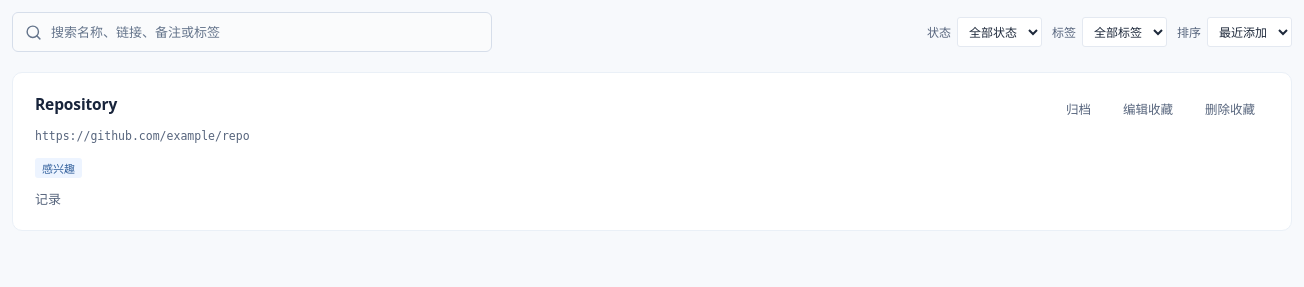
Test: archives a bookmark while preserving its manual status and reports failures
What coordinates should you click on to do the following:
click the button "归档"
I would click on:
 (1078, 110)
Its box is [1052,93,1105,127].
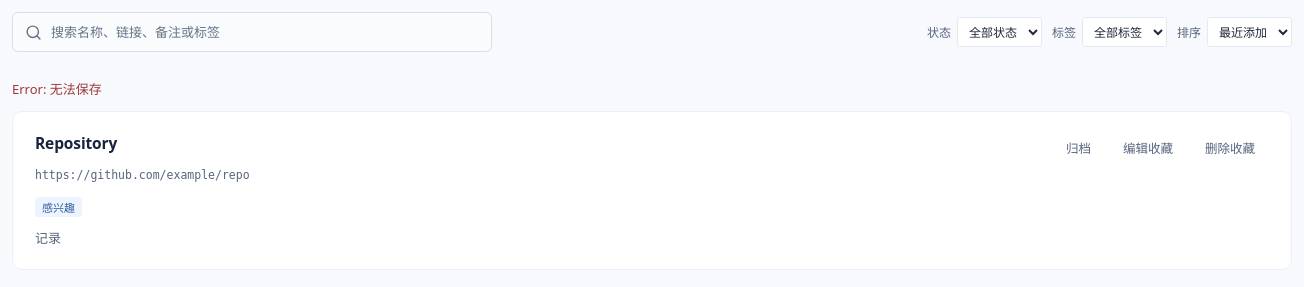
Expected: the link "Repository" is shown, [35,132,117,154]
Expected: the message shows "无法保存", [12,80,102,98]
